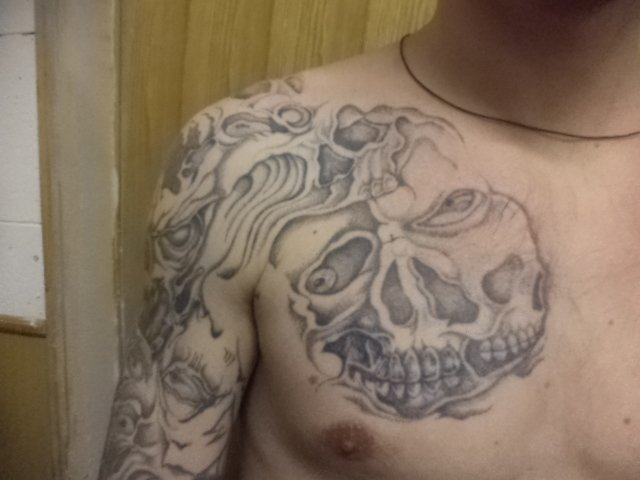tatu7_zmeya: (128, 70, 563, 432)
